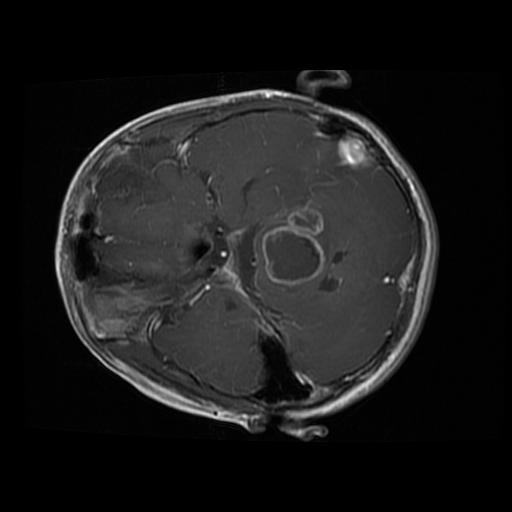glioma: (259, 206, 327, 287)
